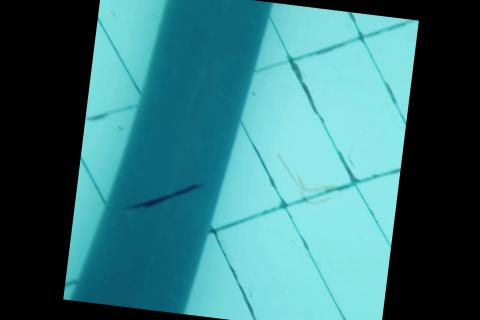keretakan: (124, 173, 204, 221)
